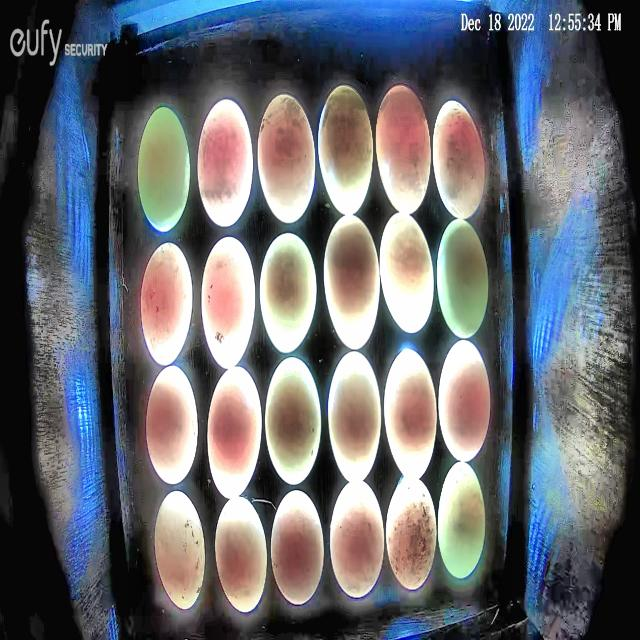UF: (323, 212, 381, 352), (256, 92, 316, 226), (200, 235, 256, 372), (196, 97, 254, 228), (264, 355, 322, 486), (206, 365, 262, 500), (318, 82, 374, 216), (376, 83, 432, 216), (327, 351, 381, 484), (259, 231, 317, 354), (384, 348, 437, 482), (328, 479, 386, 599), (379, 210, 435, 334), (137, 105, 190, 234), (437, 339, 491, 464), (270, 488, 326, 606), (432, 97, 486, 219), (145, 364, 199, 485), (140, 242, 193, 365), (437, 217, 489, 340), (154, 489, 206, 611), (214, 494, 267, 613), (386, 473, 438, 591), (438, 460, 487, 580)
